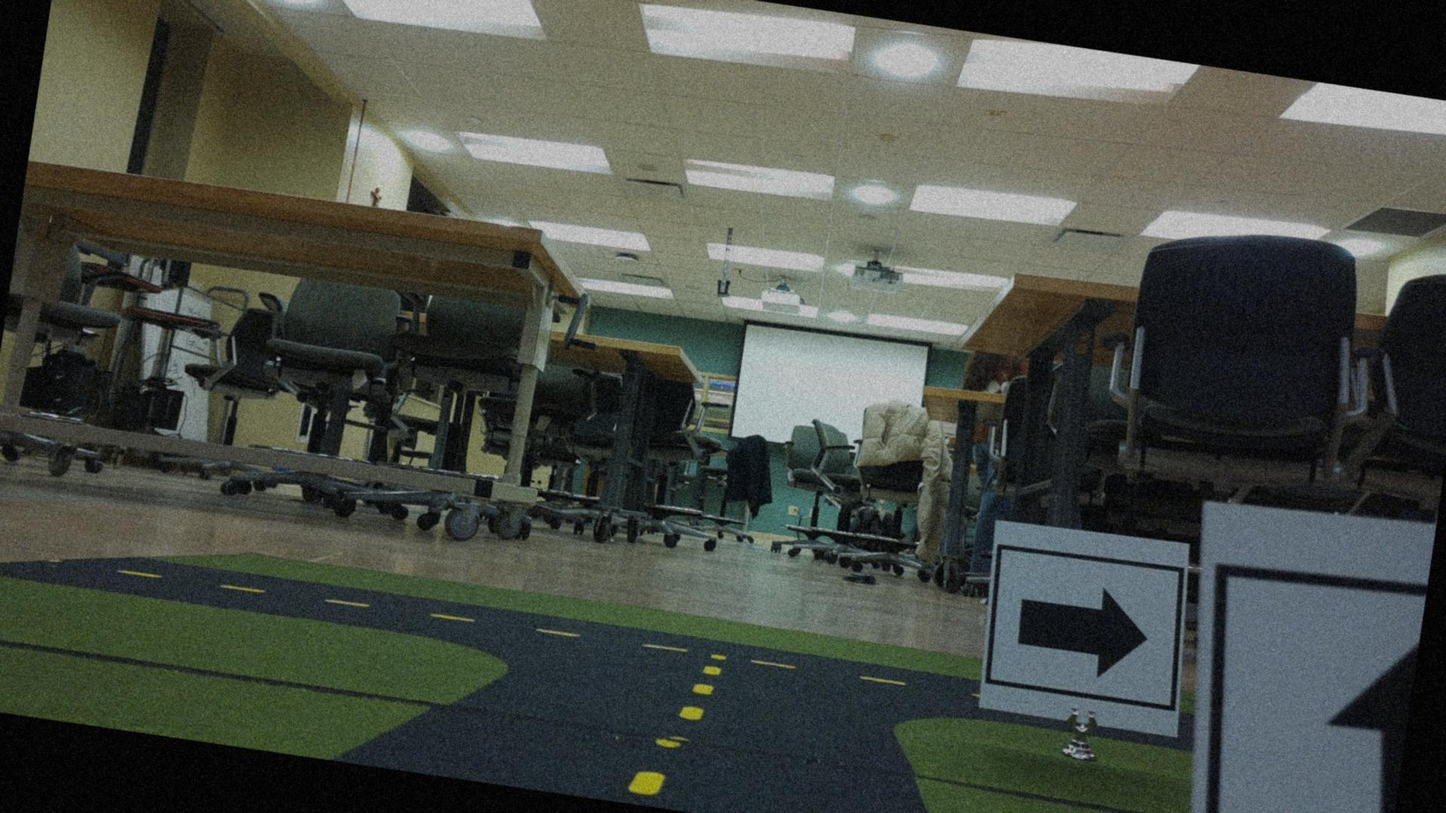turnleft: (979, 521, 1194, 730)
yellowline: (627, 654, 719, 803)
